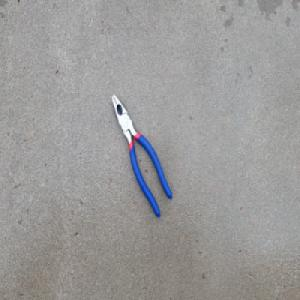Pliers: (110, 91, 173, 220)
